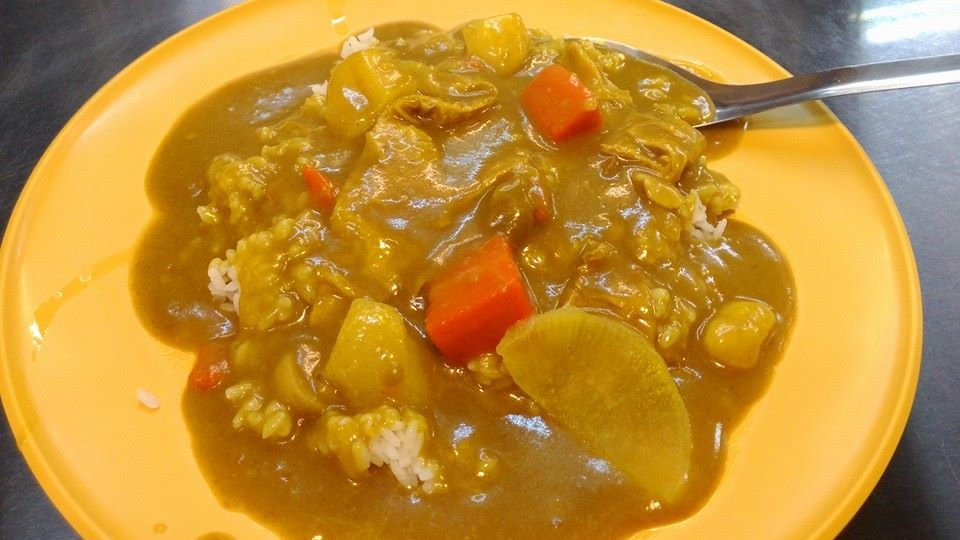curry: (150, 24, 788, 523)
